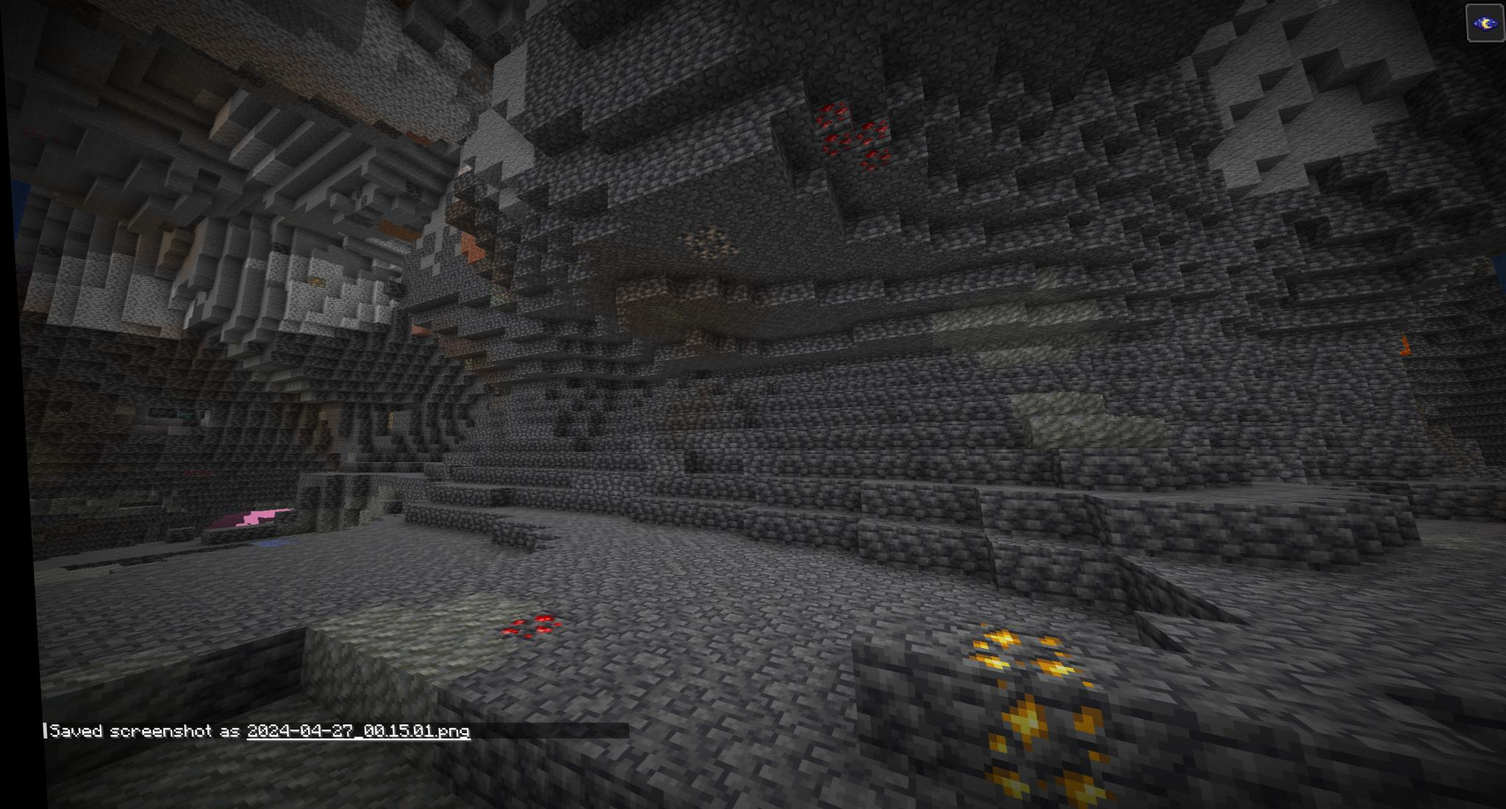gold ore: (959, 626, 1114, 787)
iron ore: (675, 224, 733, 261)
redstone ore: (492, 612, 558, 649), (812, 100, 856, 151), (851, 123, 895, 167)
